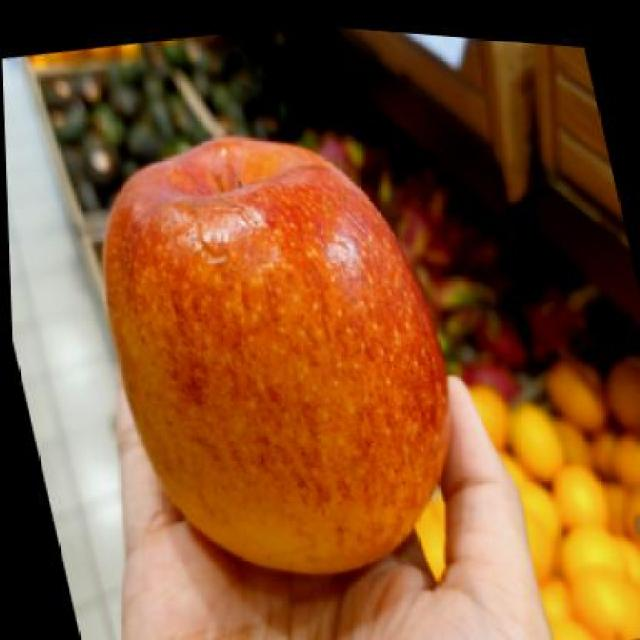Fresh Apple: (101, 148, 457, 594)
